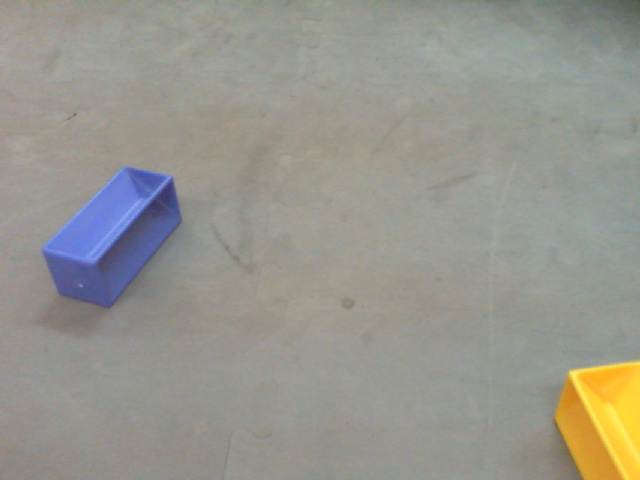BlueSample: (38, 165, 192, 313)
YellowSample: (551, 349, 640, 480)
